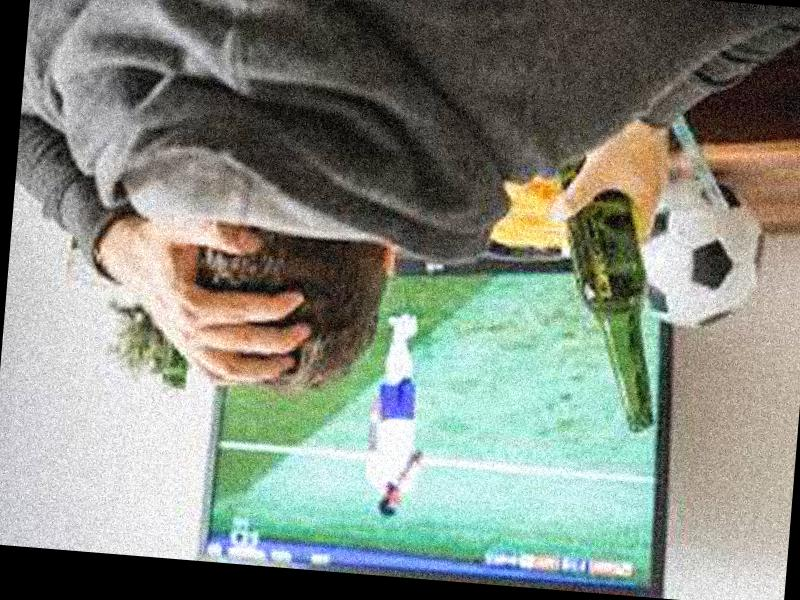Beer: (547, 149, 674, 432)
